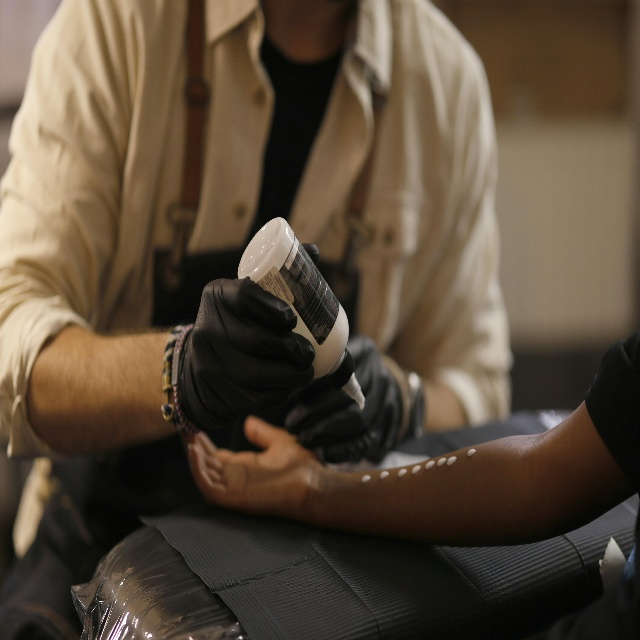Guantes: (177, 241, 318, 452), (284, 335, 404, 463)
Sin_guantes: (187, 416, 314, 521)
